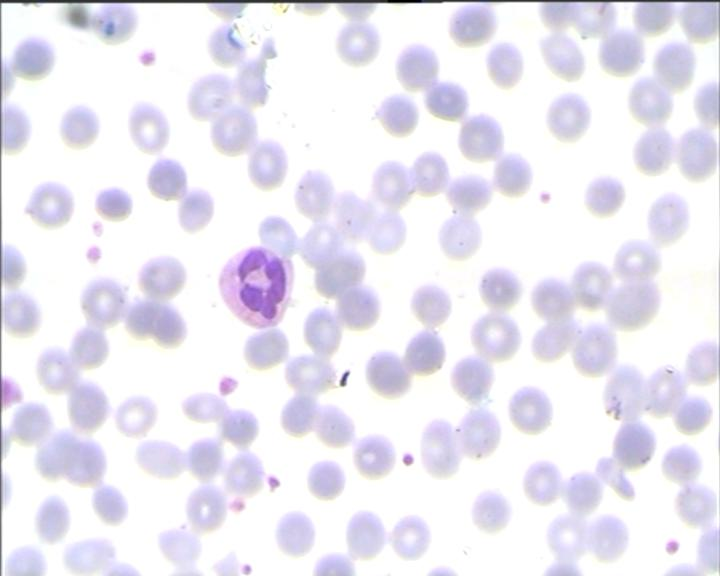neut: (212, 241, 294, 332)
